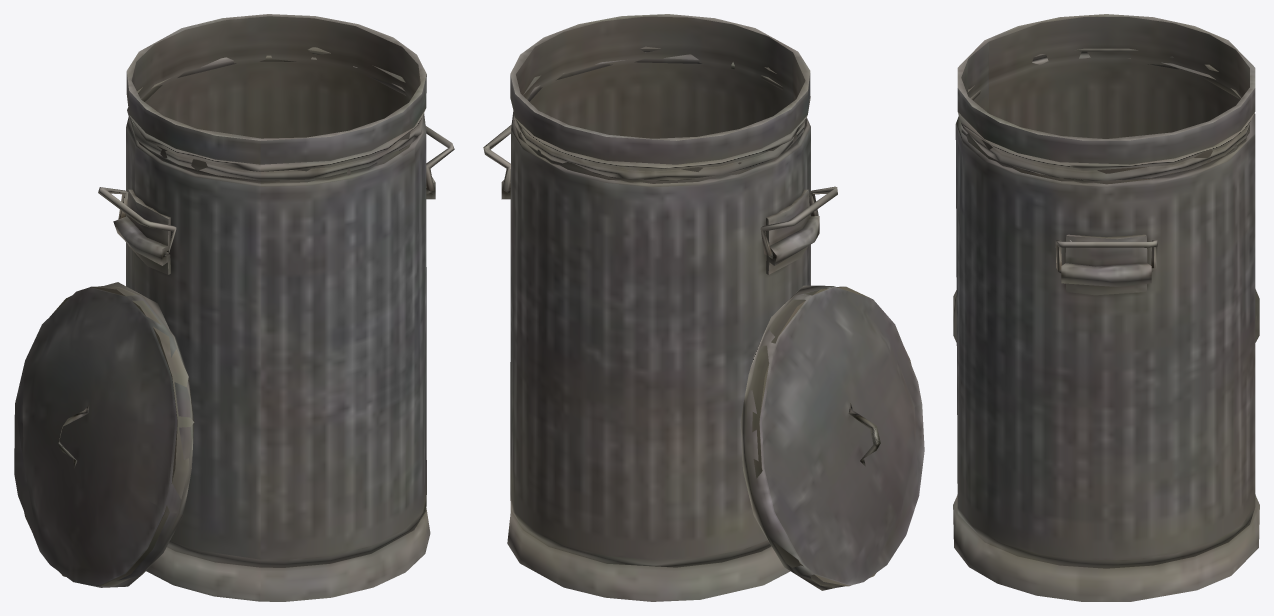
File: bin.glb
3 views of the same model, side by side, from view 1: azimuth 30°, elevation 25°; view 2: azimuth 150°, elevation 25°; view 3: azimuth 270°, elevation 25° (orthographic).
Visible parts, largest first — view 1: metal_trash_can, metal_trash_can_lid, metal_trash_can_handle_left, metal_trash_can_handle_right; view 2: metal_trash_can, metal_trash_can_lid, metal_trash_can_handle_left, metal_trash_can_handle_right; view 3: metal_trash_can, metal_trash_can_handle_right, metal_trash_can_lid.
Part boxes in pixels (x1,y1,x2,y2): metal_trash_can: (113,14,435,601); metal_trash_can_lid: (14,282,194,587); metal_trash_can_handle_left: (98,187,176,256); metal_trash_can_handle_right: (425,126,454,193); metal_trash_can: (501,14,819,601); metal_trash_can_lid: (740,285,924,590); metal_trash_can_handle_left: (760,186,837,257); metal_trash_can_handle_right: (483,124,511,193); metal_trash_can: (953,14,1259,601); metal_trash_can_handle_right: (1055,240,1157,272); metal_trash_can_lid: (953,289,1259,342).
Bounding box in the file's own units: 0.7771 × 0.9062 × 0.5481.
1 material, 1 textured.
